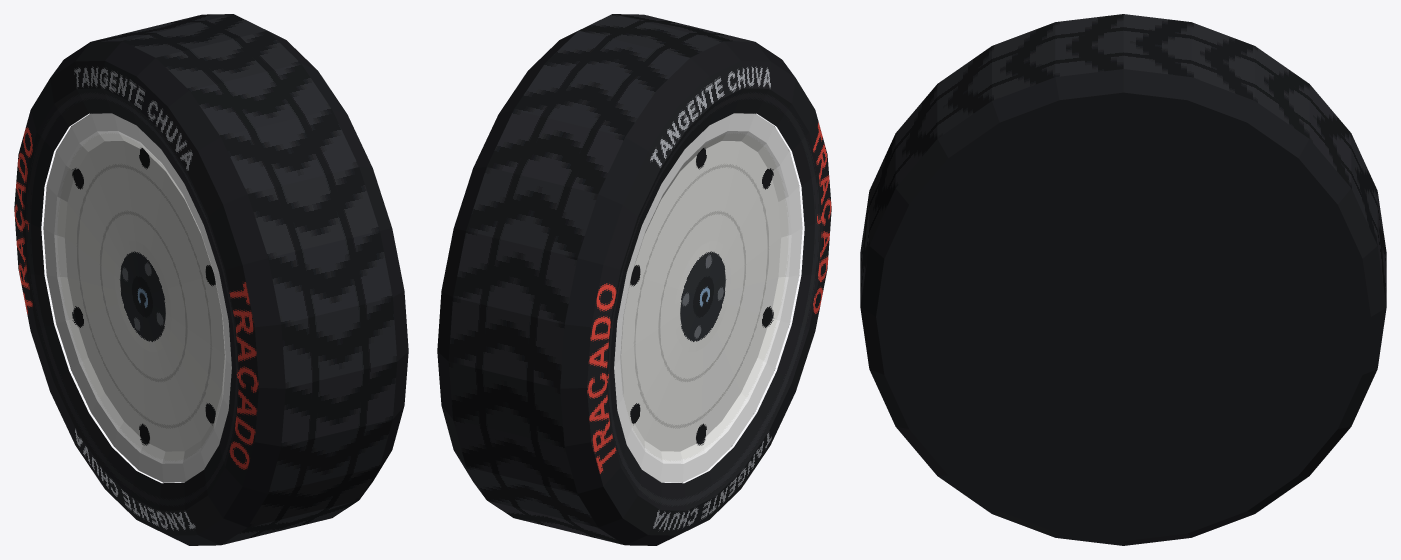
Rendered from catavento_disco_17_com_tracado_tangente_chuva_direita.glb.
The picture shows the model from 3 angles, left to right: view 1: azimuth 30°, elevation 25°; view 2: azimuth 150°, elevation 25°; view 3: azimuth 270°, elevation 25°; orthographic projection.
Visible parts, largest first — view 1: catavento_disco_17_com_tracado_tangente_chuva_direita; view 2: catavento_disco_17_com_tracado_tangente_chuva_direita; view 3: catavento_disco_17_com_tracado_tangente_chuva_direita.
Boxes of the visible parts, left/top/right/bottom form: catavento_disco_17_com_tracado_tangente_chuva_direita: left=14, top=14, right=408, bottom=545; catavento_disco_17_com_tracado_tangente_chuva_direita: left=437, top=14, right=831, bottom=545; catavento_disco_17_com_tracado_tangente_chuva_direita: left=860, top=14, right=1386, bottom=545.
Size of the model in its own units: 0.2275 by 0.66 by 0.66.
Materials: 2 (2 with a texture image).
